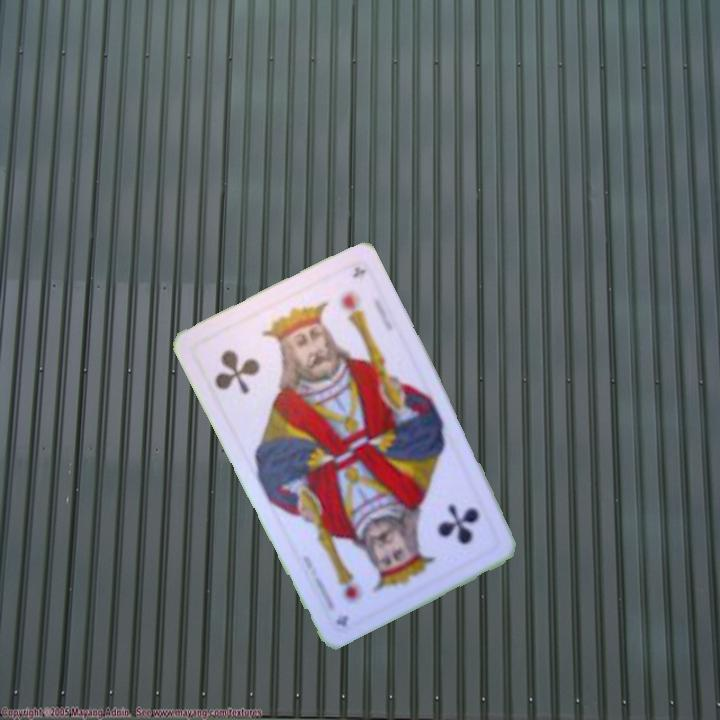c_k.png: (380, 469, 506, 589), (189, 301, 315, 420)
